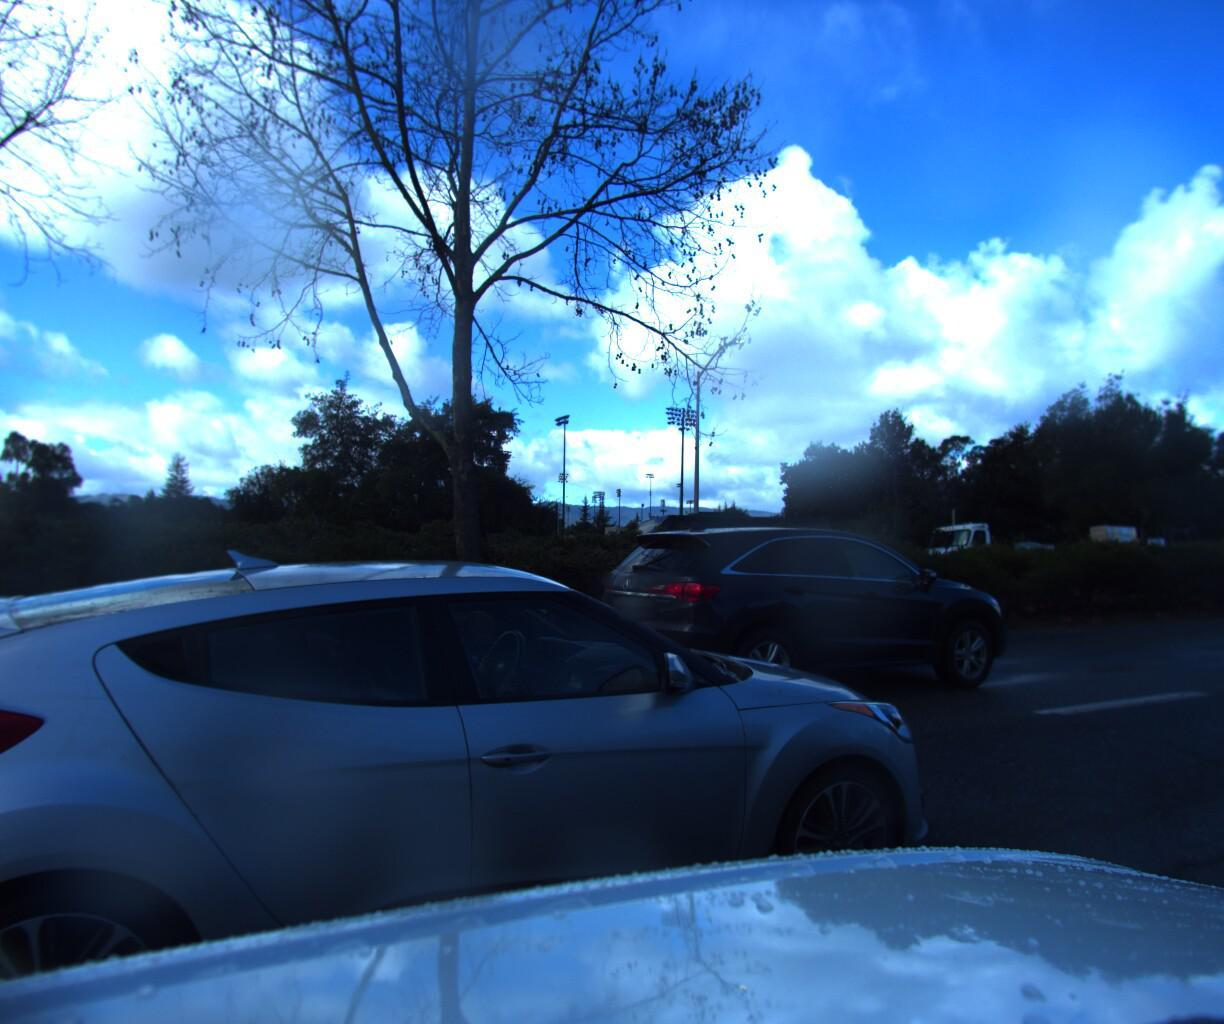car: (565, 516, 1017, 725)
truck: (620, 504, 845, 609), (907, 508, 1164, 594)
